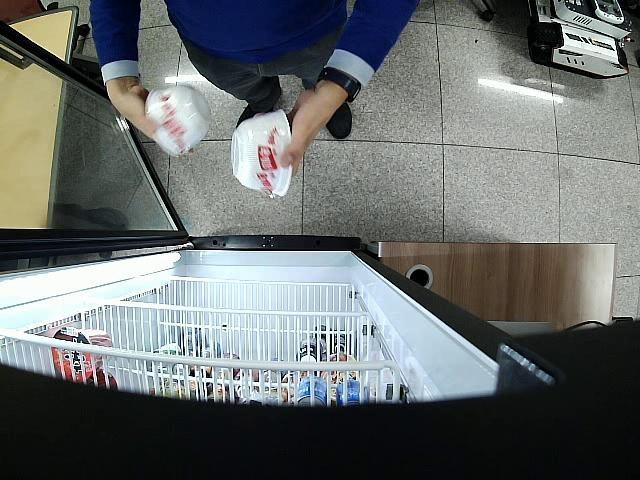09_yukGaeJang: (232, 110, 296, 196), (146, 85, 210, 155)
